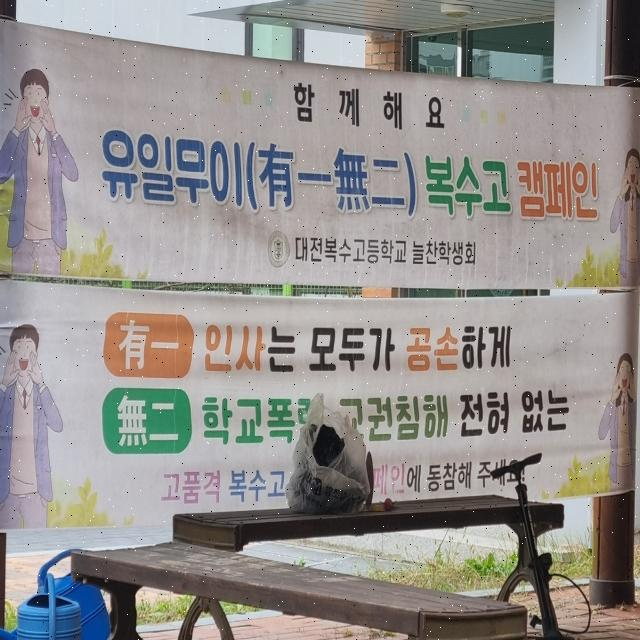logo: (264, 229, 298, 275)
